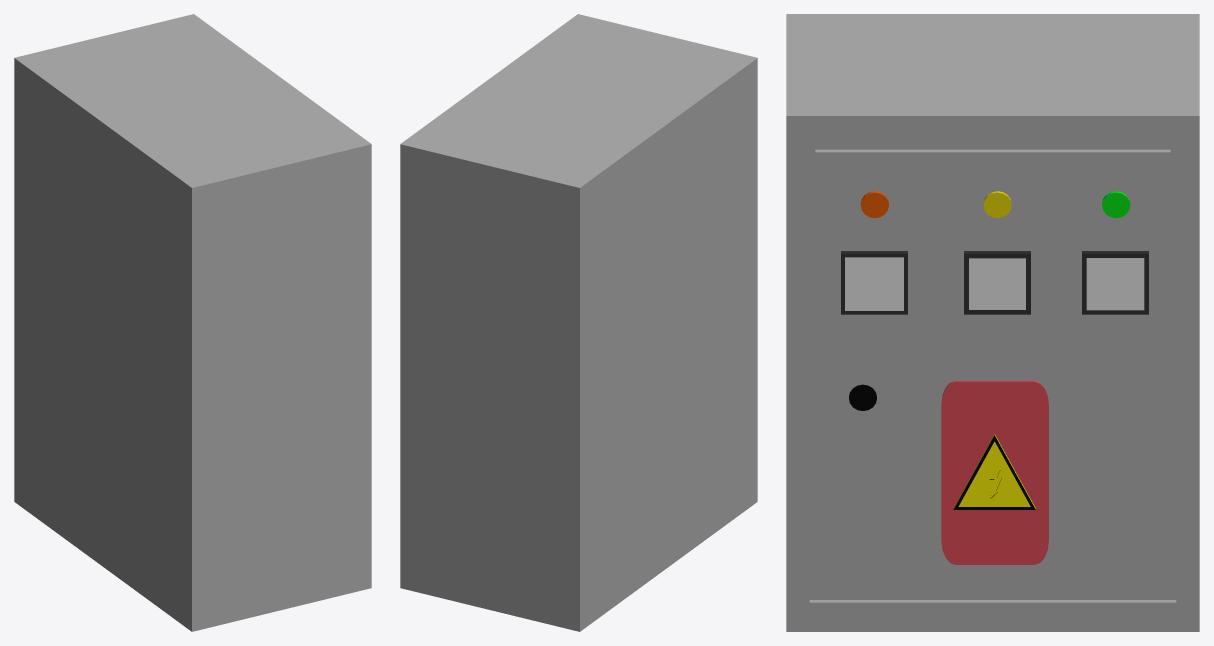
Rendered from ElectricBox.fbx.
3 renders of one model, left to right at view 1: azimuth 30°, elevation 25°; view 2: azimuth 150°, elevation 25°; view 3: azimuth 270°, elevation 25°, orthographic. The views are drawn at different scales.
Visible parts, largest first — view 1: Cube.002; view 2: Cube.002; view 3: Cube.002.
Boxes of the visible parts, bbox=[...] form: Cube.002: bbox=[14, 14, 371, 631]; Cube.002: bbox=[400, 14, 757, 631]; Cube.002: bbox=[786, 14, 1199, 631].
Bounding box in the file's own units: 71.32 × 163 × 119.
